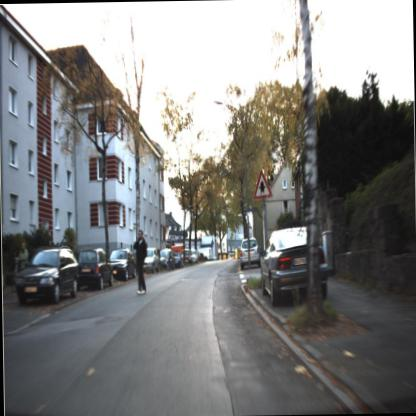danger: (248, 158, 274, 202)
